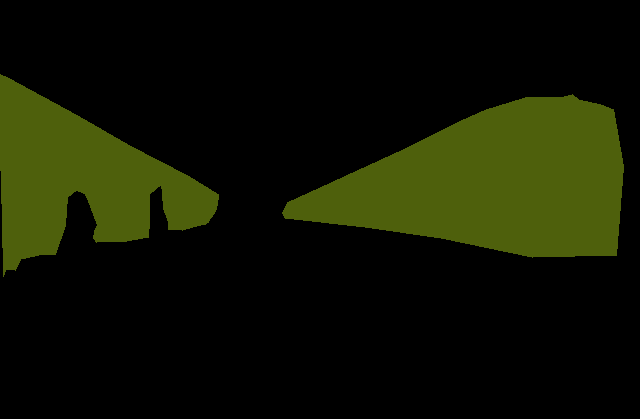Train: (282, 94, 623, 257), (0, 74, 218, 277)
